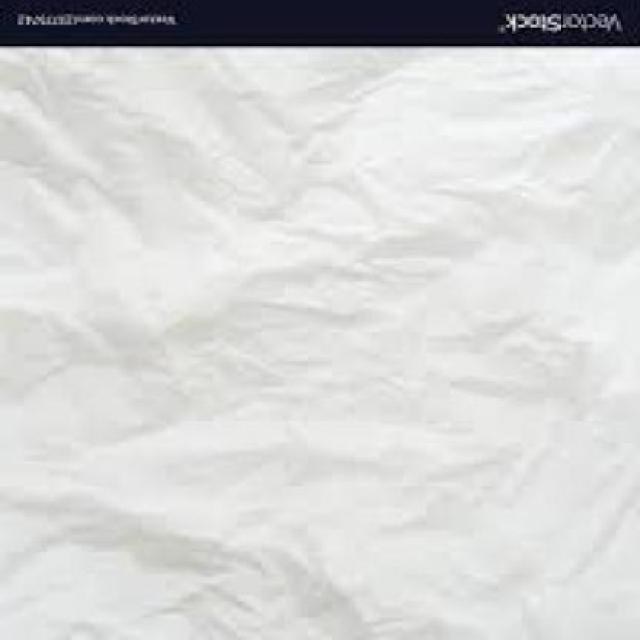PAPER: (3, 49, 639, 638)
